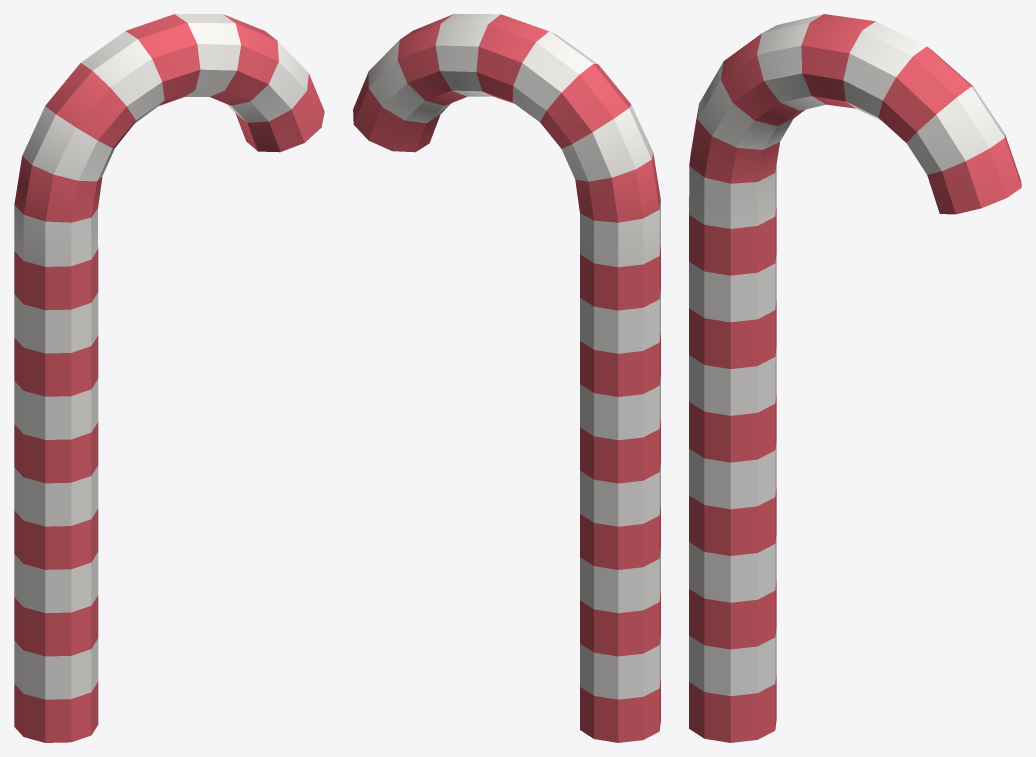
File: CandyCane_Red.fbx
3 views of the same model, side by side, from view 1: azimuth 30°, elevation 25°; view 2: azimuth 150°, elevation 25°; view 3: azimuth 330°, elevation 25° (orthographic). The views are drawn at different scales.
Parts seen in each view (by area): view 1: CandyCane_Red; view 2: CandyCane_Red; view 3: CandyCane_Red.
Boxes of the visible parts, left/top/right/bottom form: CandyCane_Red: left=14, top=14, right=324, bottom=742; CandyCane_Red: left=353, top=14, right=660, bottom=742; CandyCane_Red: left=689, top=14, right=1021, bottom=742.
Size of the model in its own units: 1.8 by 3.91 by 0.44.
